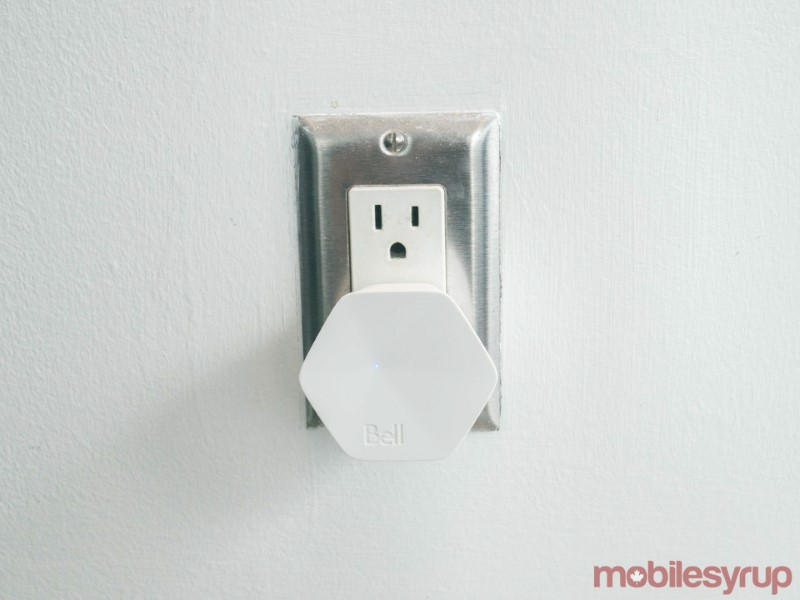pod: (299, 281, 507, 468)
